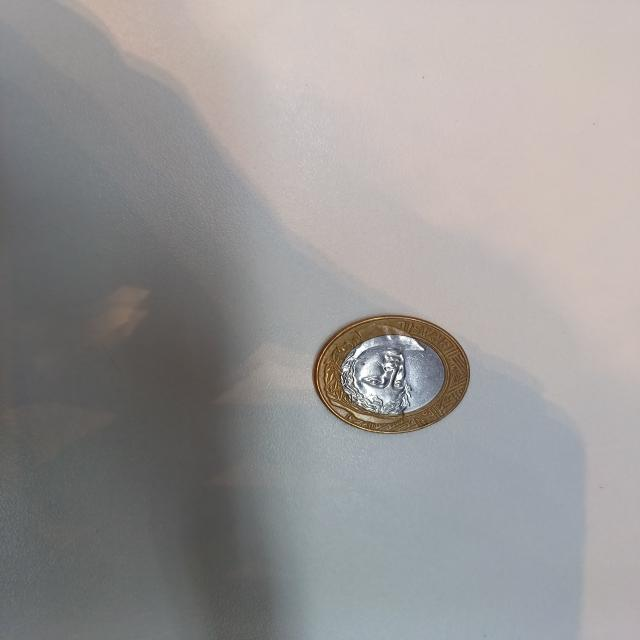1 real: (312, 309, 475, 436)
